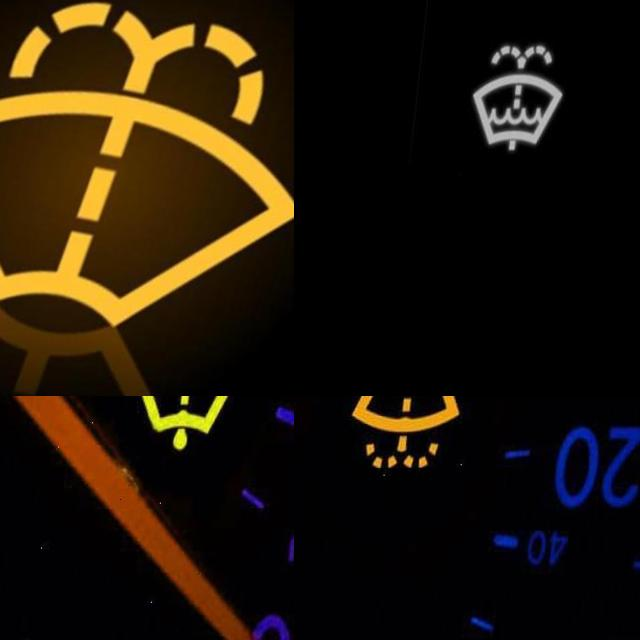Washer Fluid: (0, 0, 294, 326), (477, 46, 577, 150), (354, 396, 476, 471), (134, 396, 255, 447)
